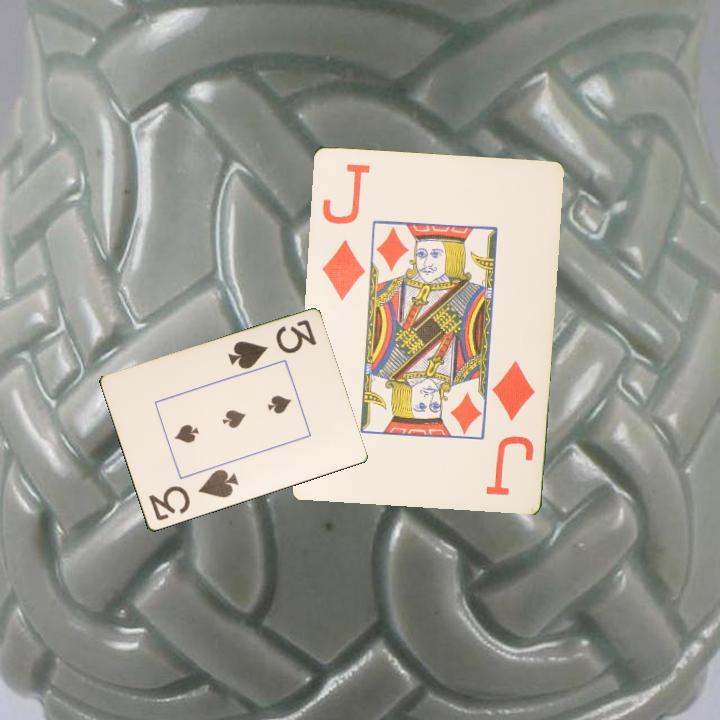3s: (145, 466, 241, 524), (224, 316, 319, 373)
Jd: (481, 356, 538, 498), (318, 159, 373, 303)
